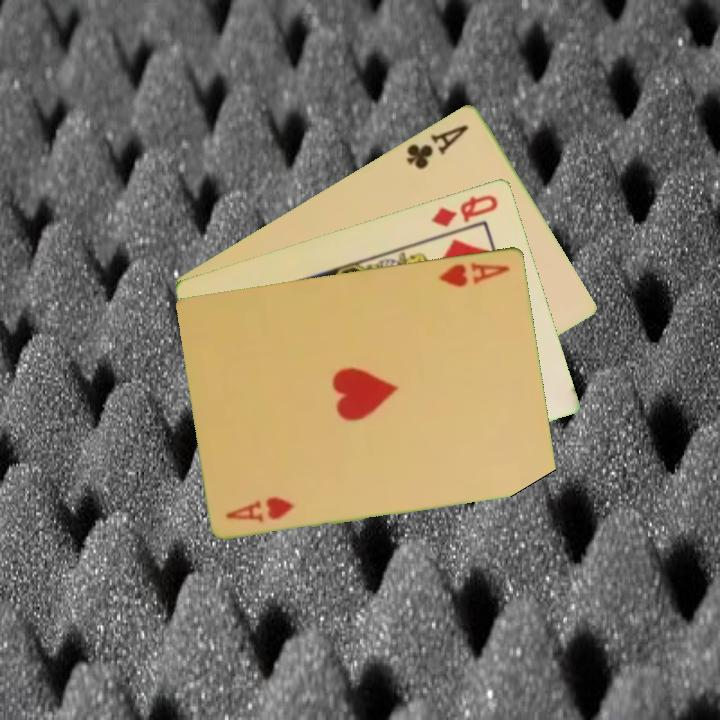Ac: (403, 120, 472, 172)
Ah: (222, 493, 298, 525), (435, 258, 513, 289)
Qd: (427, 190, 501, 229)
